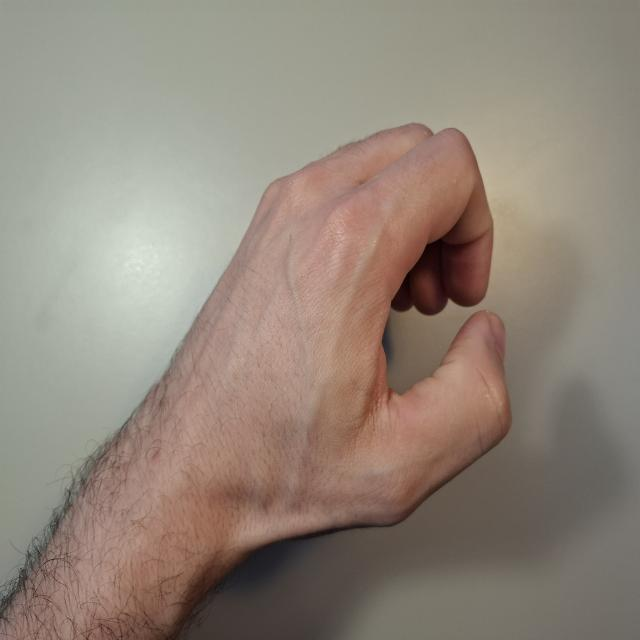glove_off: (149, 120, 515, 548)
